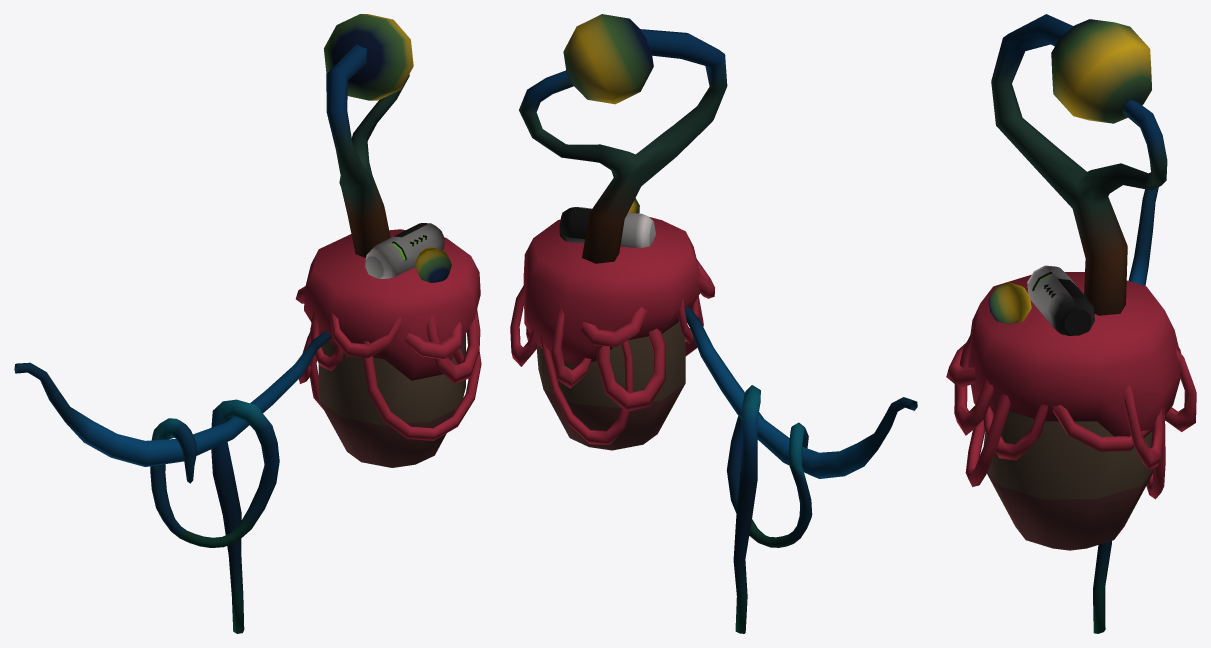
File: Alien_Island15.fbx
The picture shows the model from 3 angles, left to right: view 1: azimuth 30°, elevation 25°; view 2: azimuth 150°, elevation 25°; view 3: azimuth 270°, elevation 25°; orthographic projection. The views are drawn at different scales.
Parts seen in each view (by area): view 1: Alien_Island15; view 2: Alien_Island15; view 3: Alien_Island15.
Part boxes in pixels (box(x1,y1,x2,y2)): Alien_Island15: box(14, 14, 481, 633); Alien_Island15: box(510, 14, 917, 633); Alien_Island15: box(946, 14, 1196, 633).
Bounding box in the file's own units: 7282 × 9726 × 3231.
